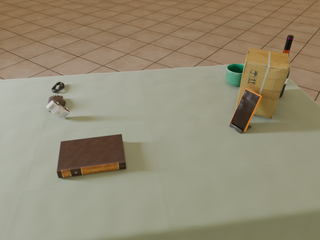book: (57, 134, 126, 178)
bottle: (279, 35, 294, 98)
box: (236, 47, 290, 119)
cup: (226, 64, 244, 86)
mouse: (48, 95, 65, 107)
phone: (230, 88, 262, 132)
toy_car: (47, 100, 70, 119)
